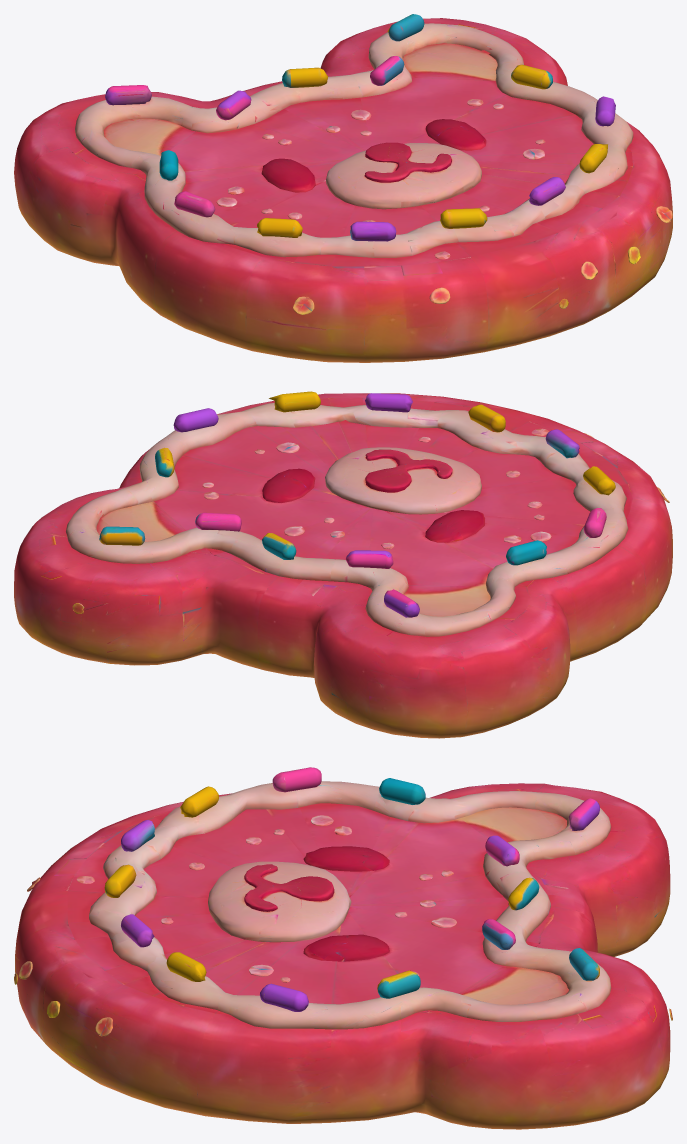
The model's file is gummy_platform.glb.
3 renders of one model, top to bottom at view 1: azimuth 30°, elevation 25°; view 2: azimuth 150°, elevation 25°; view 3: azimuth 270°, elevation 25°, orthographic. The views are drawn at different scales.
Size of what is drawn, in the model's own units: 4.73 by 0.9997 by 4.75.
1 material, 1 textured.
